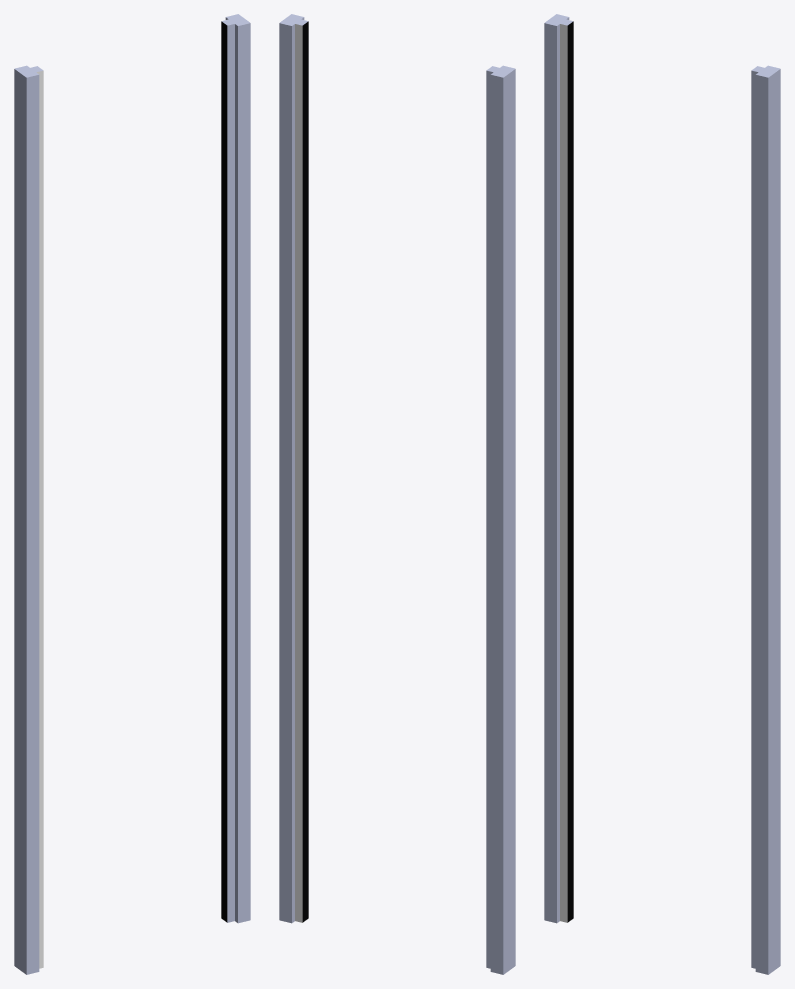
The model's file is guide_rails_main.obj.
3 renders of one model, left to right at view 1: azimuth 30°, elevation 25°; view 2: azimuth 150°, elevation 25°; view 3: azimuth 330°, elevation 25°, orthographic.
Visible parts, largest first — view 1: Part2, Part2_1, Part2_2-2, Part2-1; view 2: Part2, Part2_1, Part2_2-1, Part2_2-2; view 3: Part2_1, Part2, Part2-1, Part2-2.
Part boxes in pixels (box(x1,y1,x2,y2)): Part2: box(14, 65, 43, 974); Part2_1: box(221, 14, 250, 923); Part2_2-2: box(221, 21, 227, 922); Part2-1: box(36, 70, 43, 968); Part2: box(486, 65, 515, 974); Part2_1: box(279, 14, 308, 923); Part2_2-1: box(295, 24, 302, 922); Part2_2-2: box(302, 21, 308, 922); Part2_1: box(751, 65, 780, 974); Part2: box(544, 14, 573, 923); Part2-1: box(560, 24, 567, 922); Part2-2: box(567, 21, 573, 922).
Bounding box in the file's own units: 1165 × 4455 × 111.
